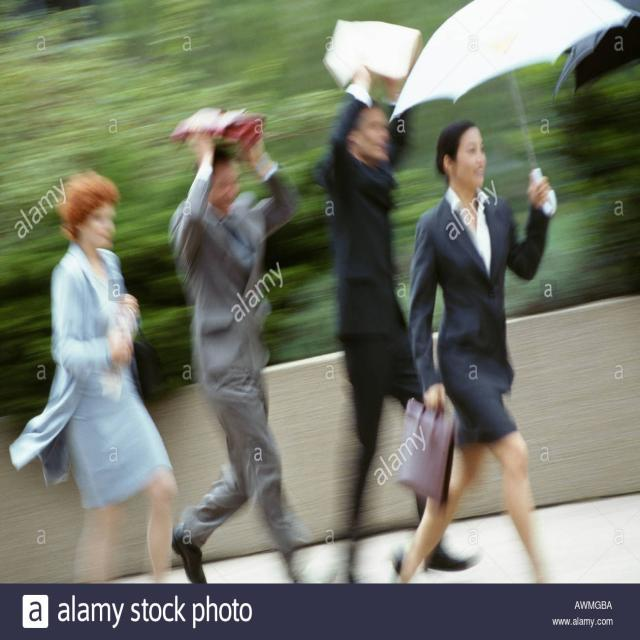body: (163, 101, 339, 608), (381, 116, 560, 584), (322, 65, 469, 580), (44, 167, 182, 585)
